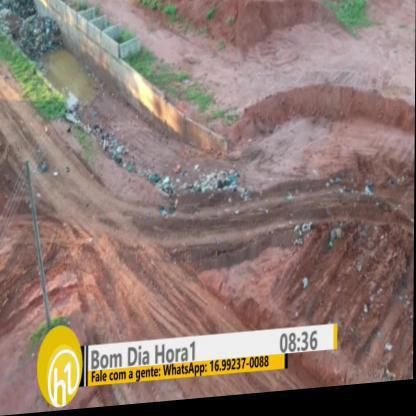agua: (51, 49, 86, 93)
lixo: (153, 169, 244, 211), (97, 125, 130, 173), (24, 21, 57, 49)
